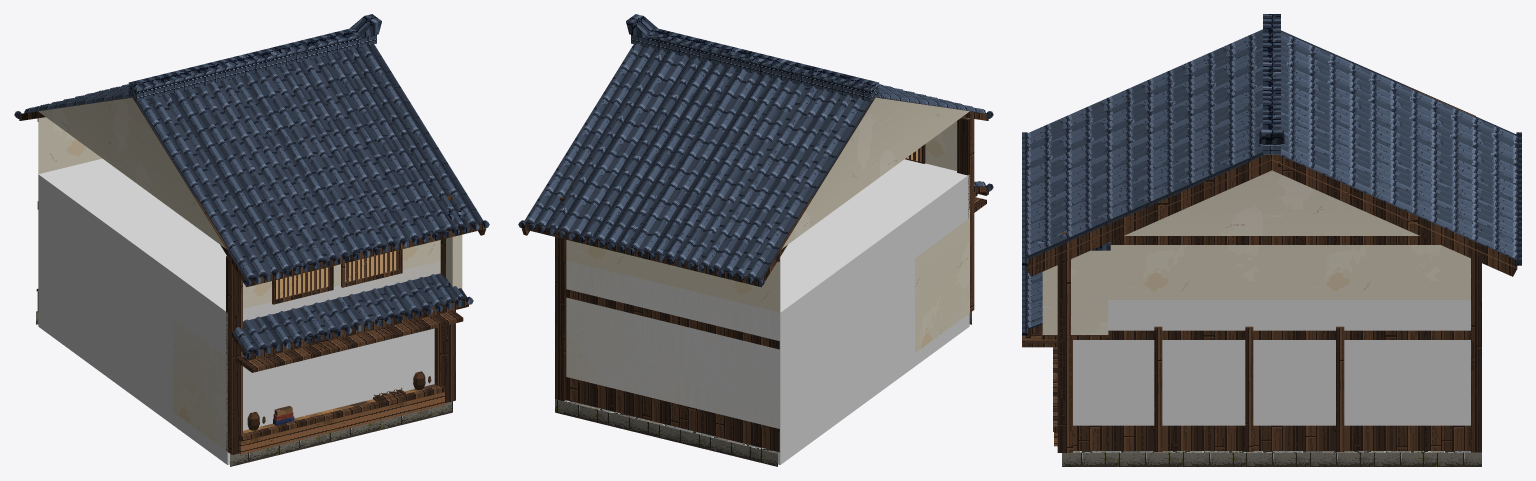
File: JP_Row_Shop_B_R.glb
3 views of the same model, side by side, from view 1: azimuth 30°, elevation 25°; view 2: azimuth 150°, elevation 25°; view 3: azimuth 270°, elevation 25° (orthographic). The views are drawn at different scales.
Visible parts, largest first — view 1: JP_Row_Shop_B_R, COL_JP_Row_Shop_B_R; view 2: JP_Row_Shop_B_R, COL_JP_Row_Shop_B_R; view 3: JP_Row_Shop_B_R, COL_JP_Row_Shop_B_R.
Boxes of the visible parts, bbox=[...] form: JP_Row_Shop_B_R: bbox=[14, 14, 489, 466]; COL_JP_Row_Shop_B_R: bbox=[38, 158, 440, 464]; JP_Row_Shop_B_R: bbox=[518, 14, 993, 466]; COL_JP_Row_Shop_B_R: bbox=[566, 159, 969, 464]; JP_Row_Shop_B_R: bbox=[1022, 14, 1521, 466]; COL_JP_Row_Shop_B_R: bbox=[1073, 300, 1470, 425].
Bounding box in the file's own units: 6.8 × 8.36 × 11.
16 materials, 16 textured.
